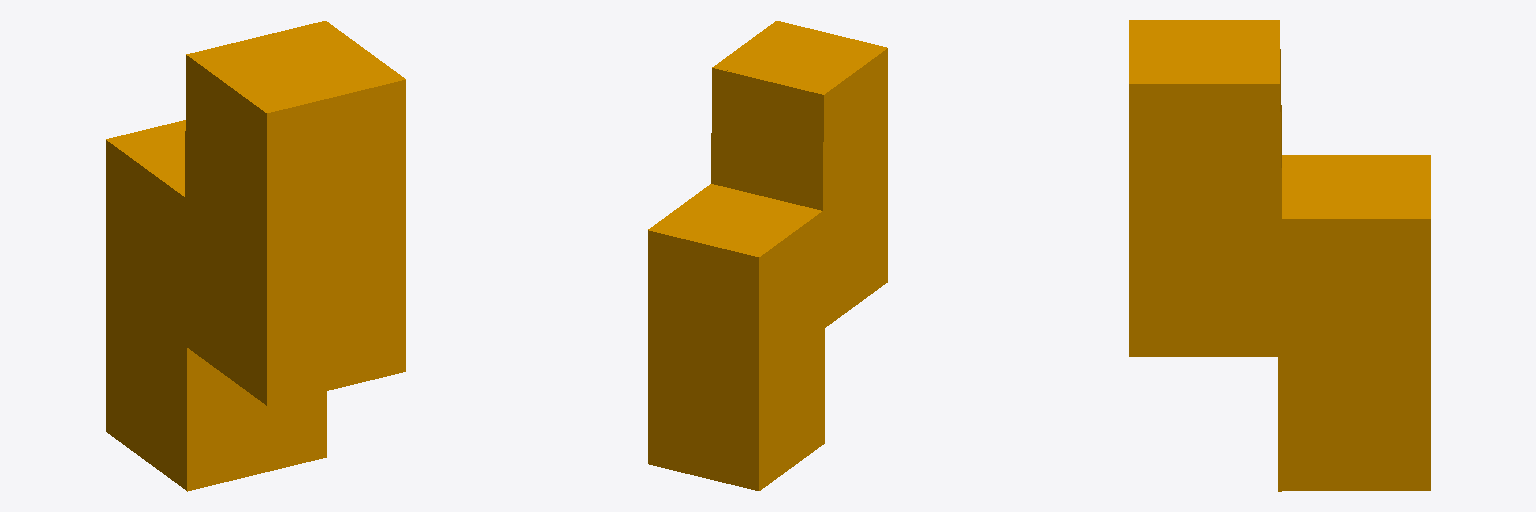
URDF robot description (2_3Z_3):
<robot name="2_3Z_3">
  <link name="link">
    <visual>
      <geometry>
        <mesh filename="2_3Z_3.obj" scale="1 1 1"/>
      </geometry>
    </visual>
    <collision>
      <geometry>
        <mesh filename="2_3Z_3.obj" scale="1 1 1"/>
      </geometry>
    </collision>
    <inertial>
      <mass value="1"/>
      <inertia ixx="1" iyy="1" izz="1" ixy="0" ixz="0" iyz="0"/>
      <origin xyz="0 0 0" rpy="0 0 0"/>
    </inertial>
  </link>
</robot>

--- What the picture shows (computed from the rendered views, not written in the file) ---
The picture shows the robot from 3 angles, left to right: view 1: azimuth 30°, elevation 25°; view 2: azimuth 150°, elevation 25°; view 3: azimuth 270°, elevation 25°; orthographic projection.
Robot: 2_3Z_3 — 1 links, 0 joints (none); root link link; default pose: every joint at zero.
Visible links, largest first — view 1: link; view 2: link; view 3: link.
Boxes of the visible links, <box> form: link: <box>106,21,405,491</box>; link: <box>648,21,887,490</box>; link: <box>1129,20,1430,491</box>.
Size in the robot's own frame: 0.0592 by 0.1184 by 0.1767 metres.
1 mesh visuals loaded from 1 distinct referenced files (1 OBJ).